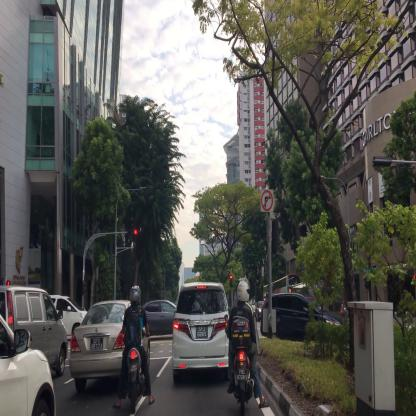red_traffic_light: (126, 228, 138, 236), (230, 273, 233, 288)
